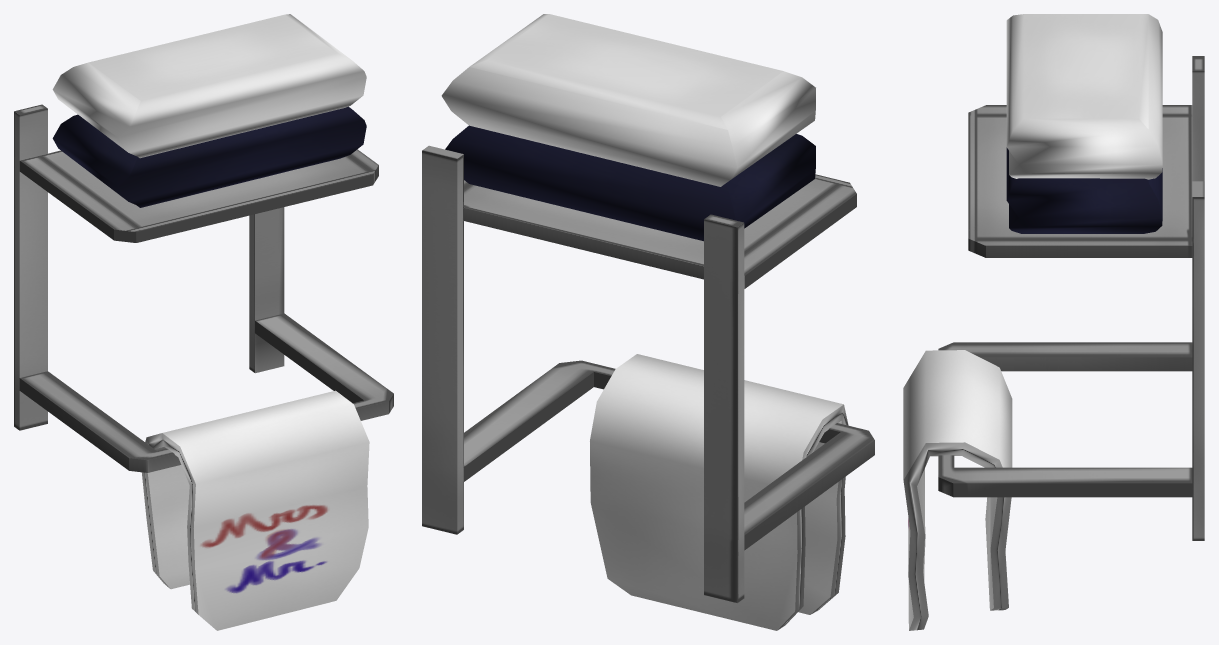
File: towelrack.fbx
3 views of the same model, side by side, from view 1: azimuth 30°, elevation 25°; view 2: azimuth 150°, elevation 25°; view 3: azimuth 270°, elevation 25° (orthographic). The views are drawn at different scales.
Parts seen in each view (by area): view 1: TowelRack; view 2: TowelRack; view 3: TowelRack.
Boxes of the visible parts, x1,y1,x2,y2 form: TowelRack: (14,14,393,630); TowelRack: (422,14,874,630); TowelRack: (903,14,1204,630).
Bounding box in the file's own units: 4.43 × 7.87 × 3.96.
